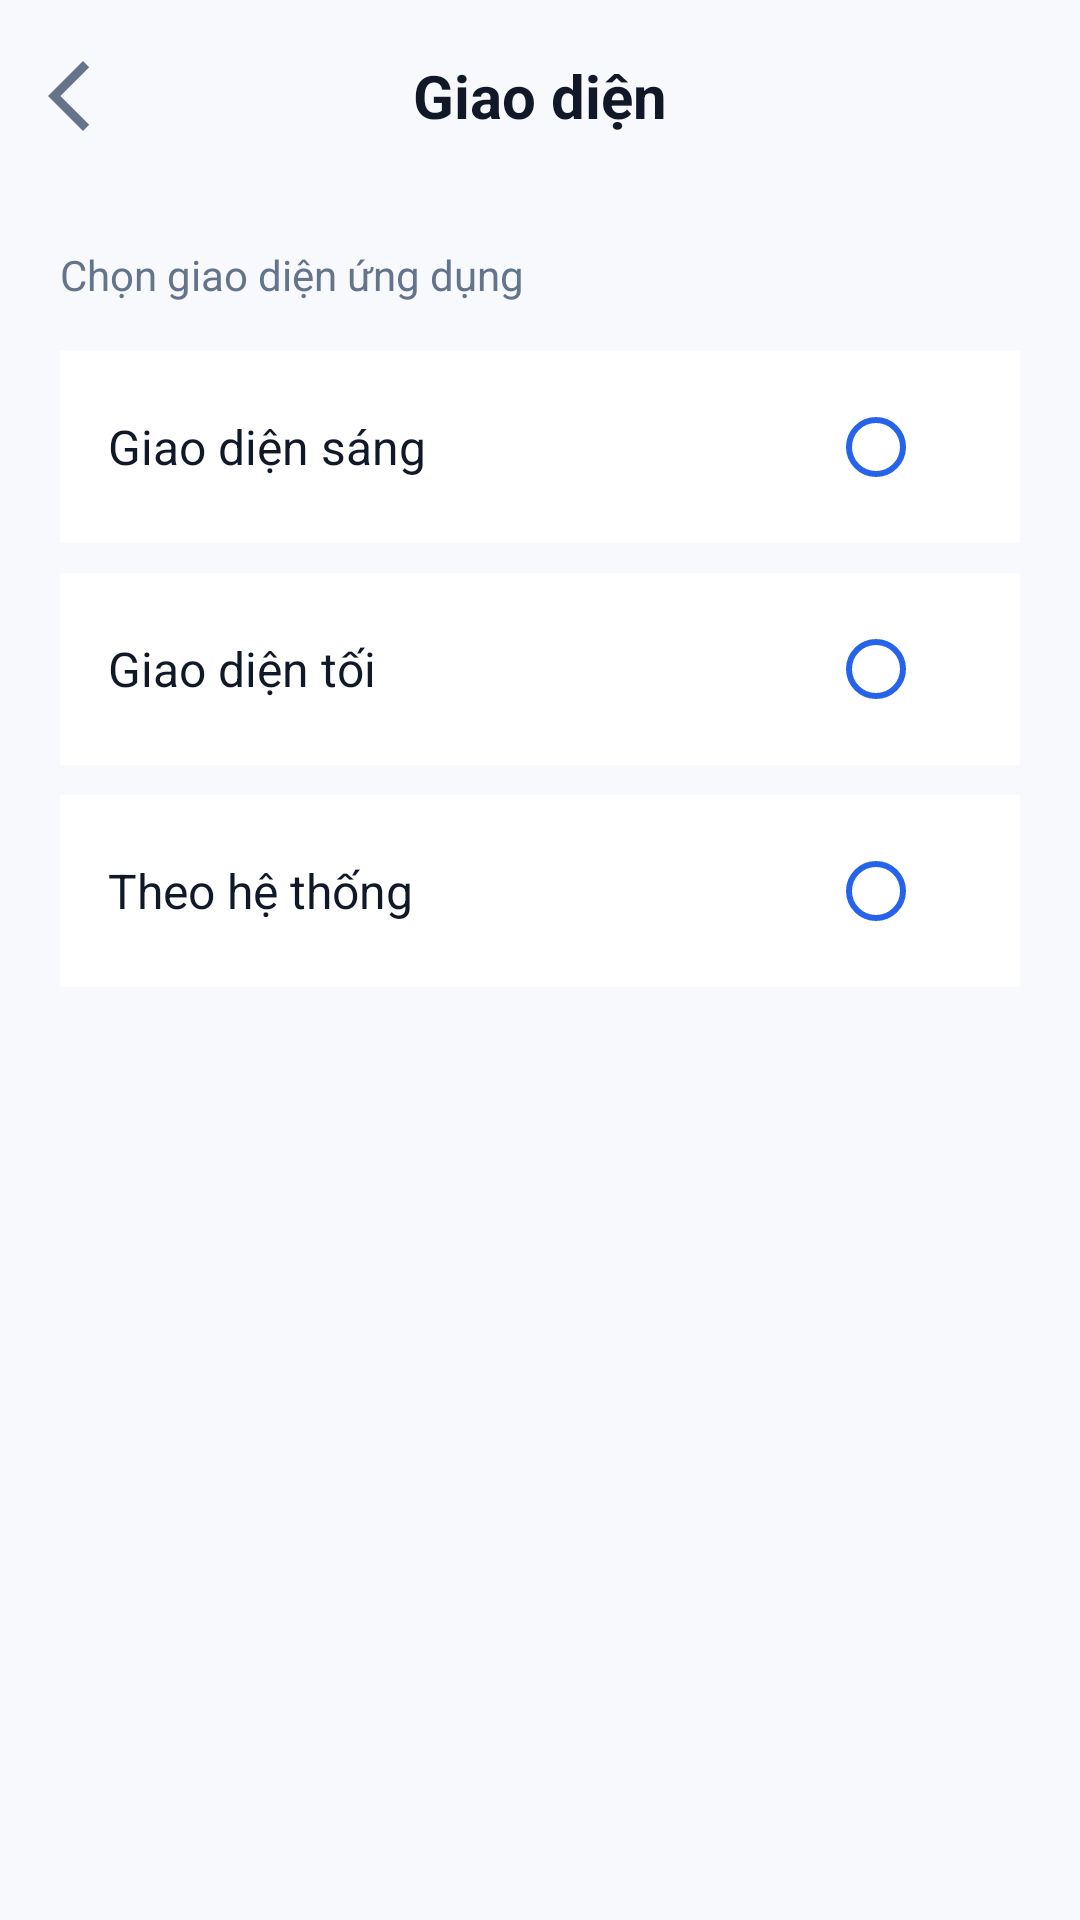

Icon bounding boxes for this 1080 x 1920 phone screenshot, format [left=x1, top=y1, right=x2, bottom=y2]:
Quay lại: [left=48, top=61, right=89, bottom=131]
